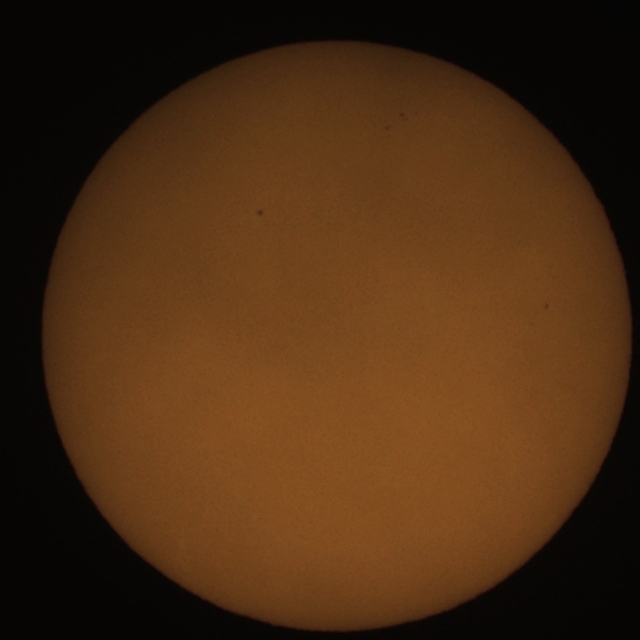sunspot: (256, 209, 265, 218)
